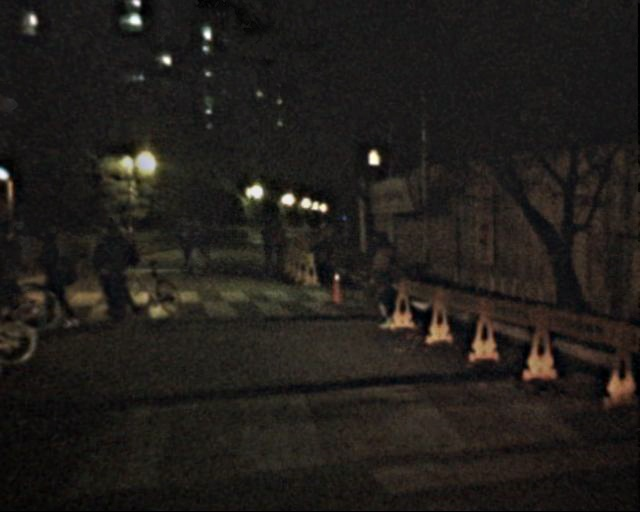person: (361, 229, 402, 330), (96, 217, 137, 318), (36, 221, 77, 321), (1, 212, 35, 329), (172, 212, 197, 272), (189, 216, 211, 270), (267, 222, 285, 266), (255, 221, 273, 264)
